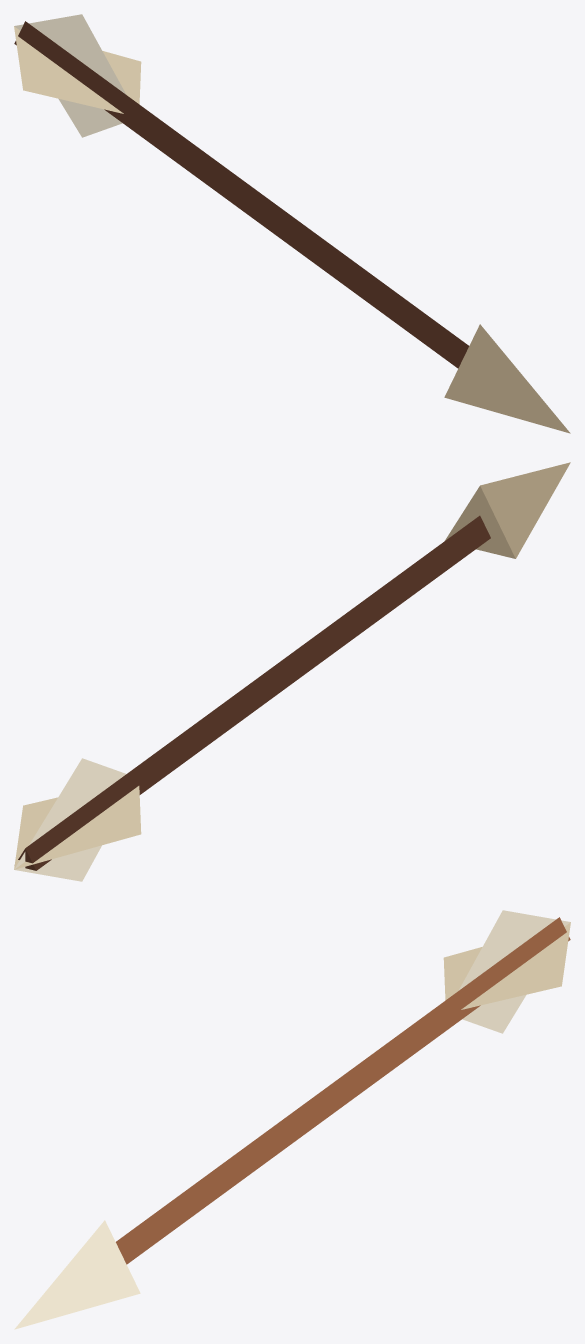
Rendered from proj_arrow.glb.
3 renders of one model, top to bottom at view 1: azimuth 30°, elevation 25°; view 2: azimuth 150°, elevation 25°; view 3: azimuth 330°, elevation 25°, orthographic.
Visible parts, largest first — view 1: Proj_shaft, Proj_head, Proj_fletch_h, Proj_fletch_v; view 2: Proj_shaft, Proj_head, Proj_fletch_h, Proj_fletch_v; view 3: Proj_shaft, Proj_head, Proj_fletch_h, Proj_fletch_v.
Part boxes in pixels (x1,y1,x2,y2): Proj_shaft: (14,21,468,368); Proj_head: (444,324,570,433); Proj_fletch_h: (14,26,141,113); Proj_fletch_v: (14,14,126,137); Proj_shaft: (18,515,490,870); Proj_head: (445,462,570,558); Proj_fletch_h: (14,786,141,869); Proj_fletch_v: (14,758,126,881); Proj_shaft: (116,917,570,1264); Proj_head: (14,1220,140,1329); Proj_fletch_h: (443,922,570,1009); Proj_fletch_v: (458,910,570,1033).
Size of the model in its own units: 0.12 by 0.12 by 0.98.
